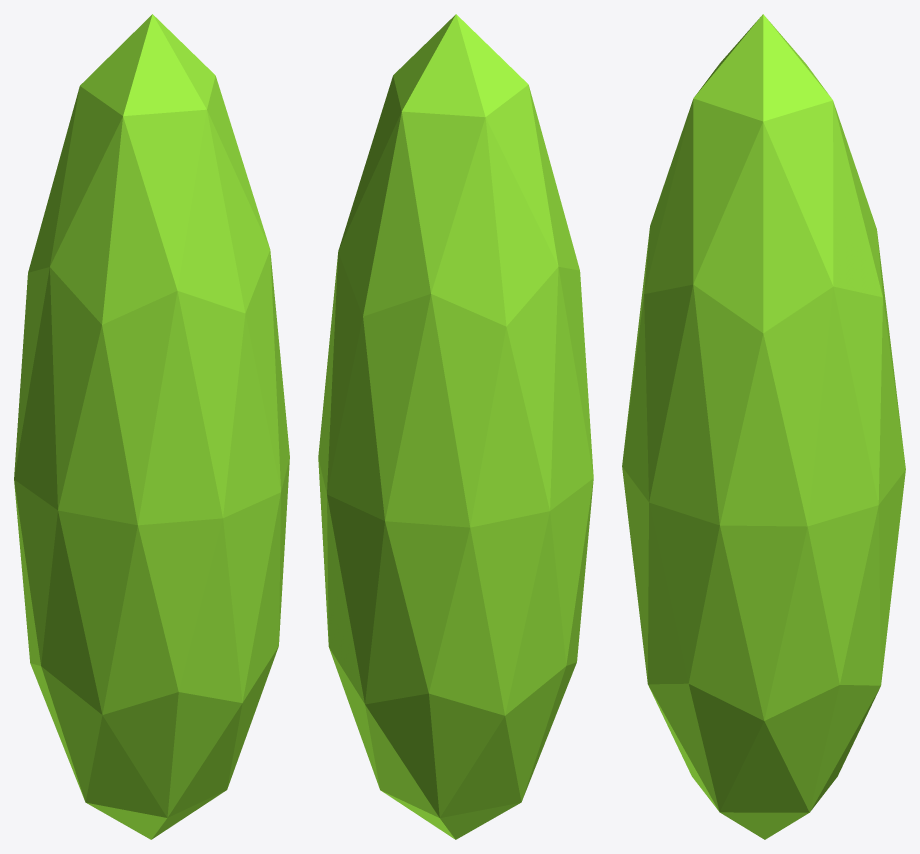
3 renders of one model, left to right at view 1: azimuth 30°, elevation 25°; view 2: azimuth 150°, elevation 25°; view 3: azimuth 270°, elevation 25°, orthographic.
Parts seen in each view (by area): view 1: Icosphere.003; view 2: Icosphere.003; view 3: Icosphere.003.
Part boxes in pixels (x1,y1,x2,y2): Icosphere.003: (14, 14, 289, 839); Icosphere.003: (318, 14, 593, 839); Icosphere.003: (622, 14, 905, 839).
Bounding box in the file's own units: 0.0826 × 0.2811 × 0.0875.
